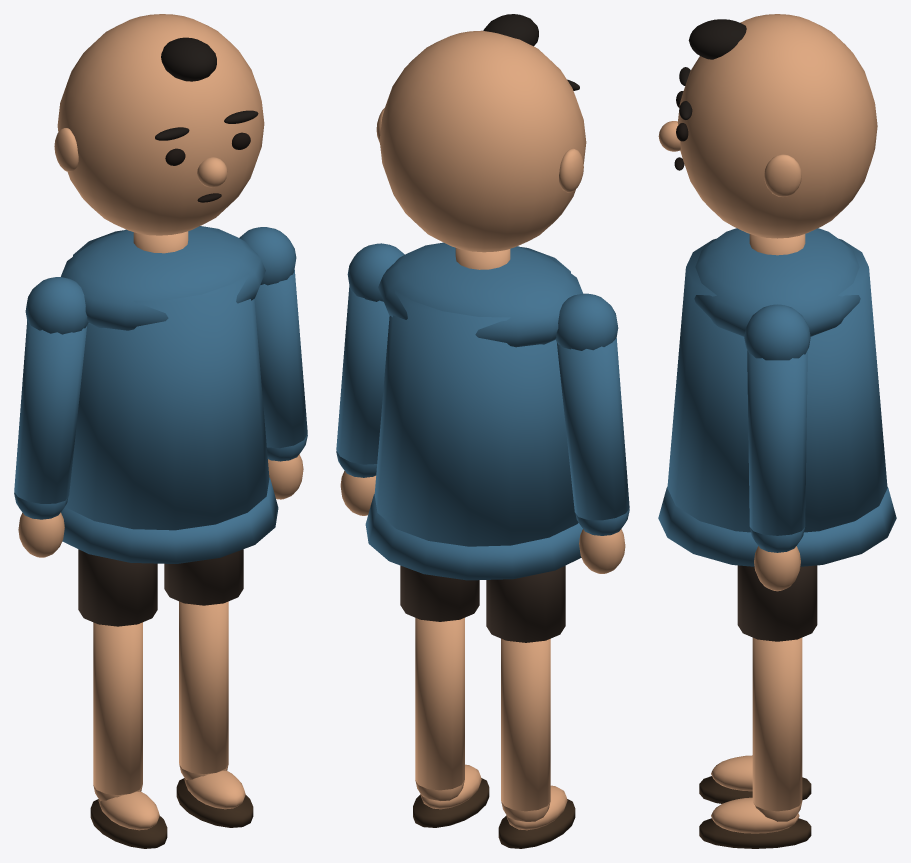
The model's file is villager_child.glb.
The picture shows the model from 3 angles, left to right: view 1: azimuth 30°, elevation 25°; view 2: azimuth 150°, elevation 25°; view 3: azimuth 270°, elevation 25°; orthographic projection.
Parts seen in each view (by area): view 1: Body, Head, LegL, LegR, ArmL, ArmR; view 2: Body, Head, LegL, ArmL, LegR, ArmR; view 3: Body, Head, LegR, ArmR, LegL.
Part boxes in pixels (x1,y1,x2,y2): Body: (61, 226, 278, 563); Head: (54, 14, 264, 235); LegL: (78, 549, 167, 848); LegR: (164, 549, 253, 827); ArmL: (14, 277, 88, 557); ArmR: (239, 227, 307, 499); Body: (365, 242, 582, 580); Head: (376, 14, 586, 252); LegL: (486, 565, 575, 848); ArmL: (555, 293, 629, 573); LegR: (400, 565, 489, 827); ArmR: (336, 243, 404, 515); Body: (658, 228, 896, 566); Head: (658, 14, 877, 238); LegR: (699, 565, 817, 848); ArmR: (744, 304, 810, 591); LegL: (699, 755, 811, 803).
Bounding box in the file's own units: 0.6 × 1.58 × 0.43.
